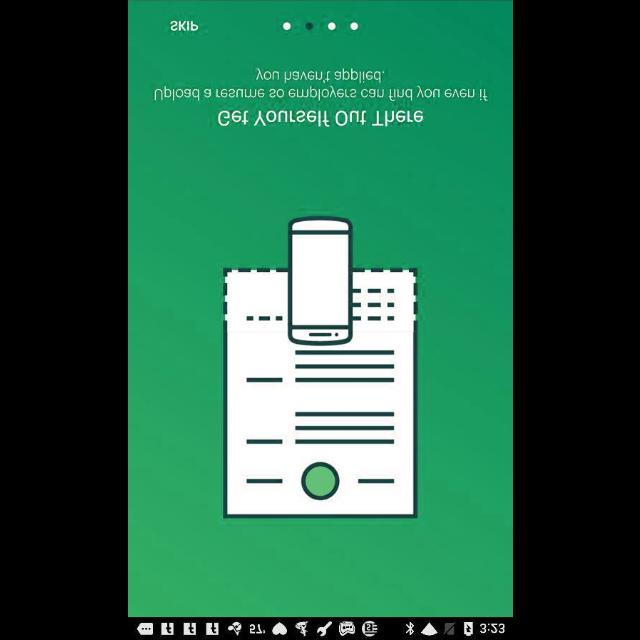image: (222, 216, 418, 518)
pageindicator: (281, 20, 359, 32)
text: (153, 68, 487, 102), (217, 109, 423, 127), (170, 20, 198, 32)
uppertaskbar: (128, 617, 512, 639)
